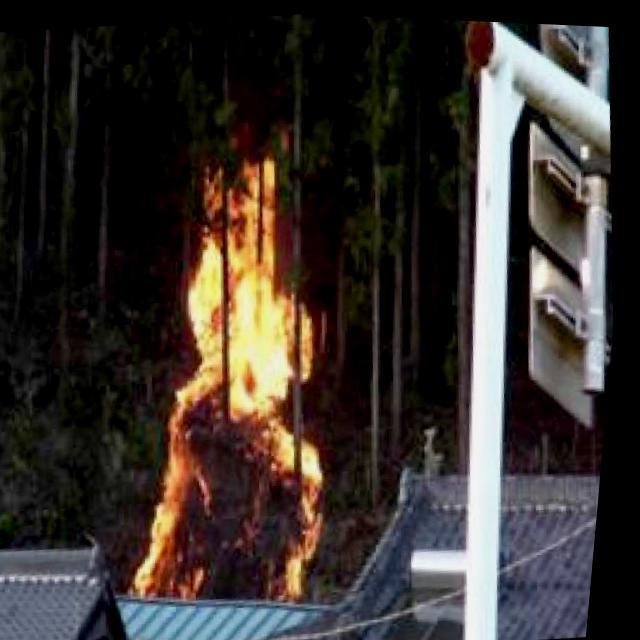helmet: (114, 144, 369, 610)
